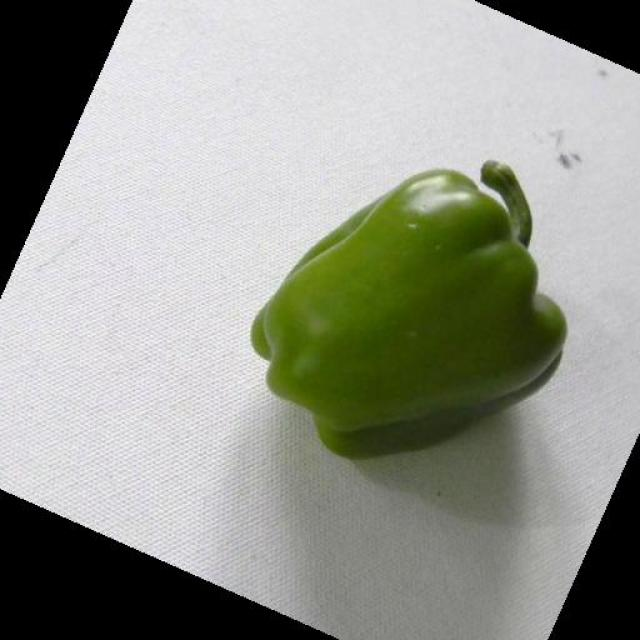Fresh_Capsicum: (268, 182, 531, 430)
